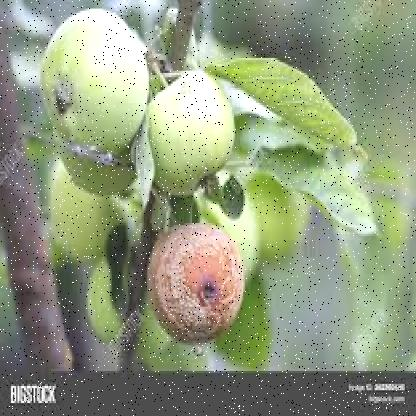apple: (46, 13, 142, 146), (148, 86, 233, 178)
damaged_apple: (142, 218, 252, 336)
